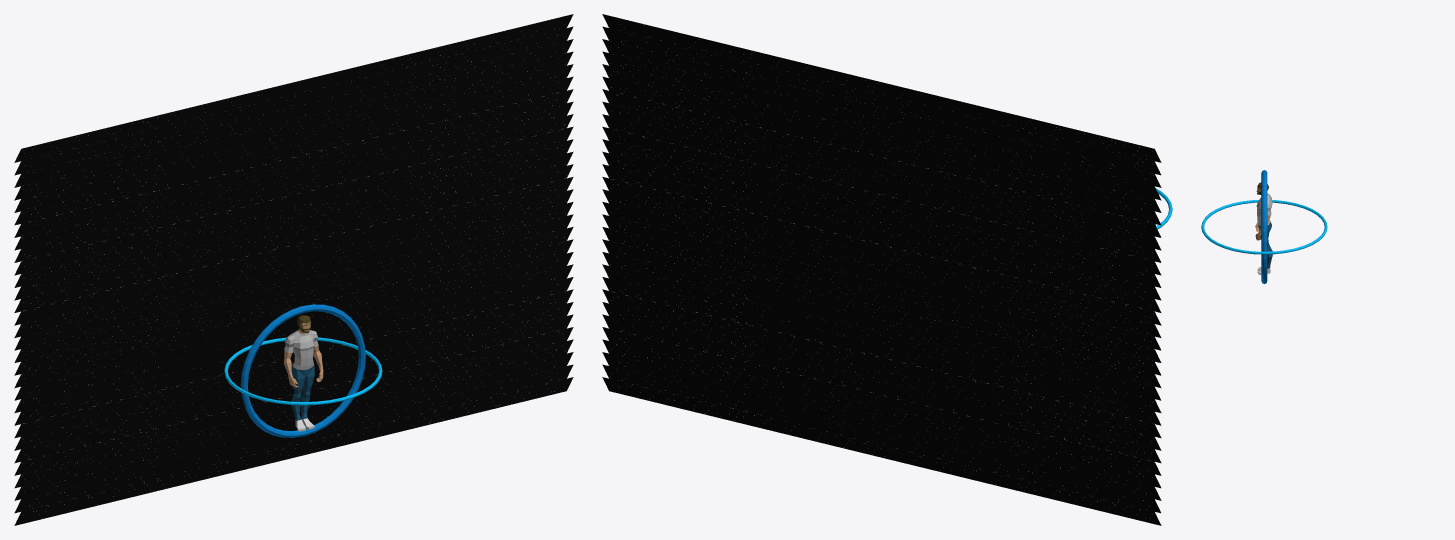
The model's file is Solar.glb.
3 views of the same model, side by side, from view 1: azimuth 30°, elevation 25°; view 2: azimuth 150°, elevation 25°; view 3: azimuth 270°, elevation 25° (orthographic). The views are drawn at different scales.
Parts seen in each view (by area): view 1: Background, Inner Torus, Character, Outer Torus; view 2: Background; view 3: Outer Torus, Inner Torus, Character.
Part boxes in pixels (<box>): Background: <box>14,14,573,525</box>; Inner Torus: <box>240,304,365,437</box>; Character: <box>284,315,323,431</box>; Outer Torus: <box>224,337,382,405</box>; Background: <box>602,14,1161,525</box>; Outer Torus: <box>1201,200,1327,254</box>; Inner Torus: <box>1261,170,1267,283</box>; Character: <box>1255,182,1272,274</box>.
Bounding box in the file's own units: 8.77 × 5.62 × 4.07.
